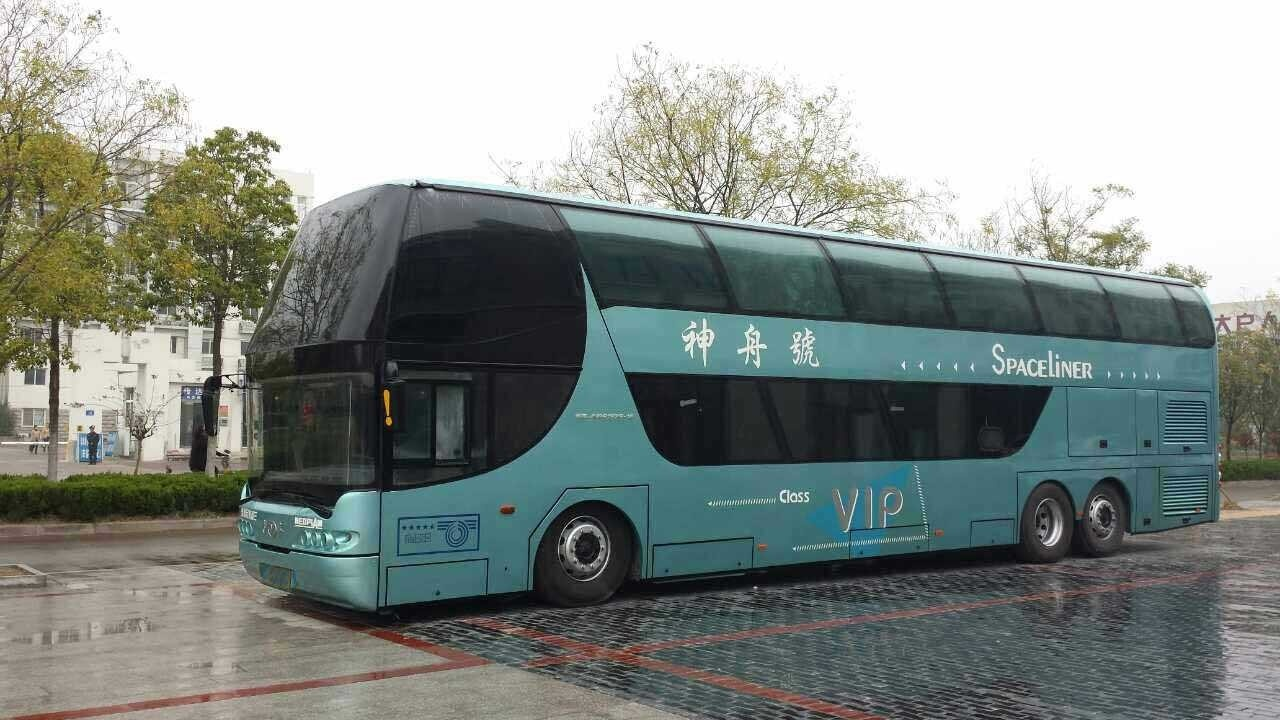bus: (209, 153, 1227, 628)
